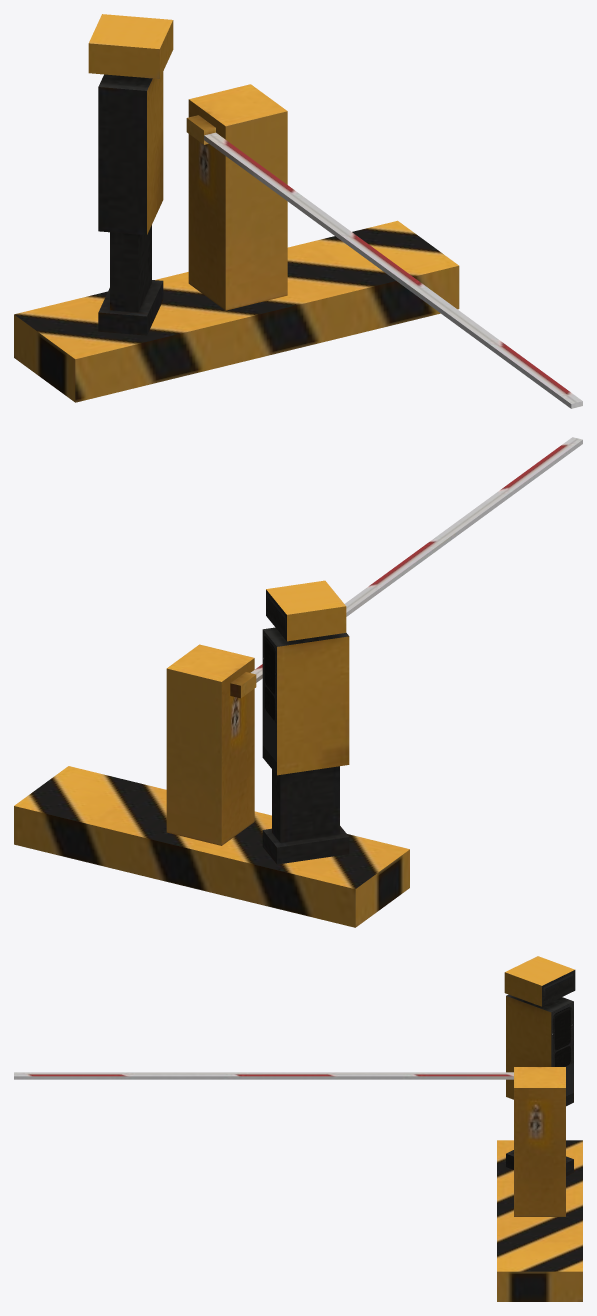
Rendered from LPRIn.gltf.
3 views of the same model, one above another, from view 1: azimuth 30°, elevation 25°; view 2: azimuth 150°, elevation 25°; view 3: azimuth 270°, elevation 25° (orthographic). The views are drawn at different scales.
Parts seen in each view (by area): view 1: LPRIn; view 2: LPRIn; view 3: LPRIn.
Part boxes in pixels (left/top/right/bottom): LPRIn: left=14, top=14, right=582, bottom=408; LPRIn: left=14, top=437, right=582, bottom=927; LPRIn: left=14, top=956, right=582, bottom=1301.
Bounding box in the file's own units: 18.82 × 15.35 × 34.51.
1 material, 1 textured.
